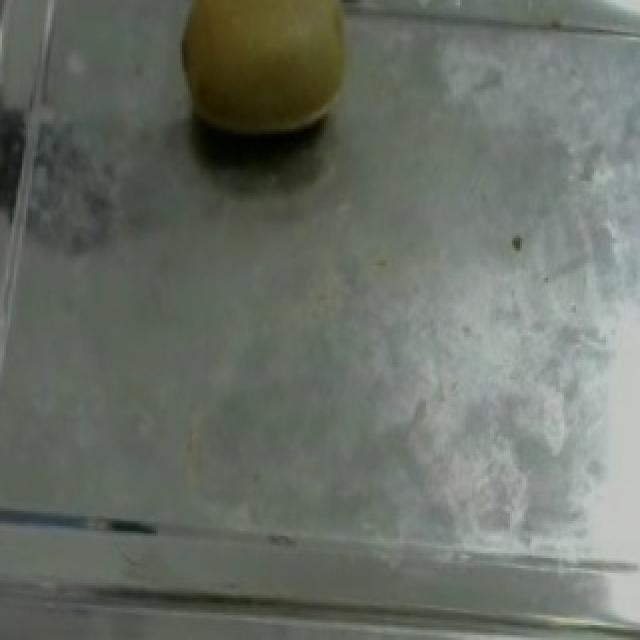Fruit: (164, 0, 364, 149)
